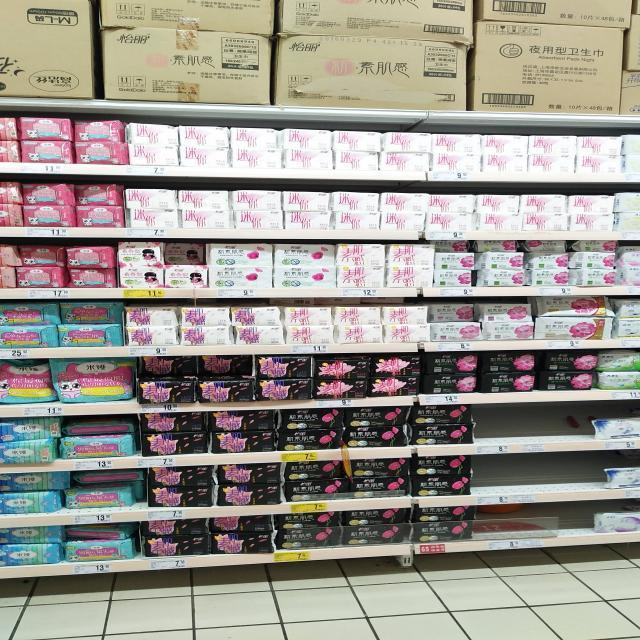empty: (511, 456, 602, 498), (520, 403, 565, 451), (476, 405, 516, 453), (474, 456, 509, 504), (560, 502, 590, 544)
